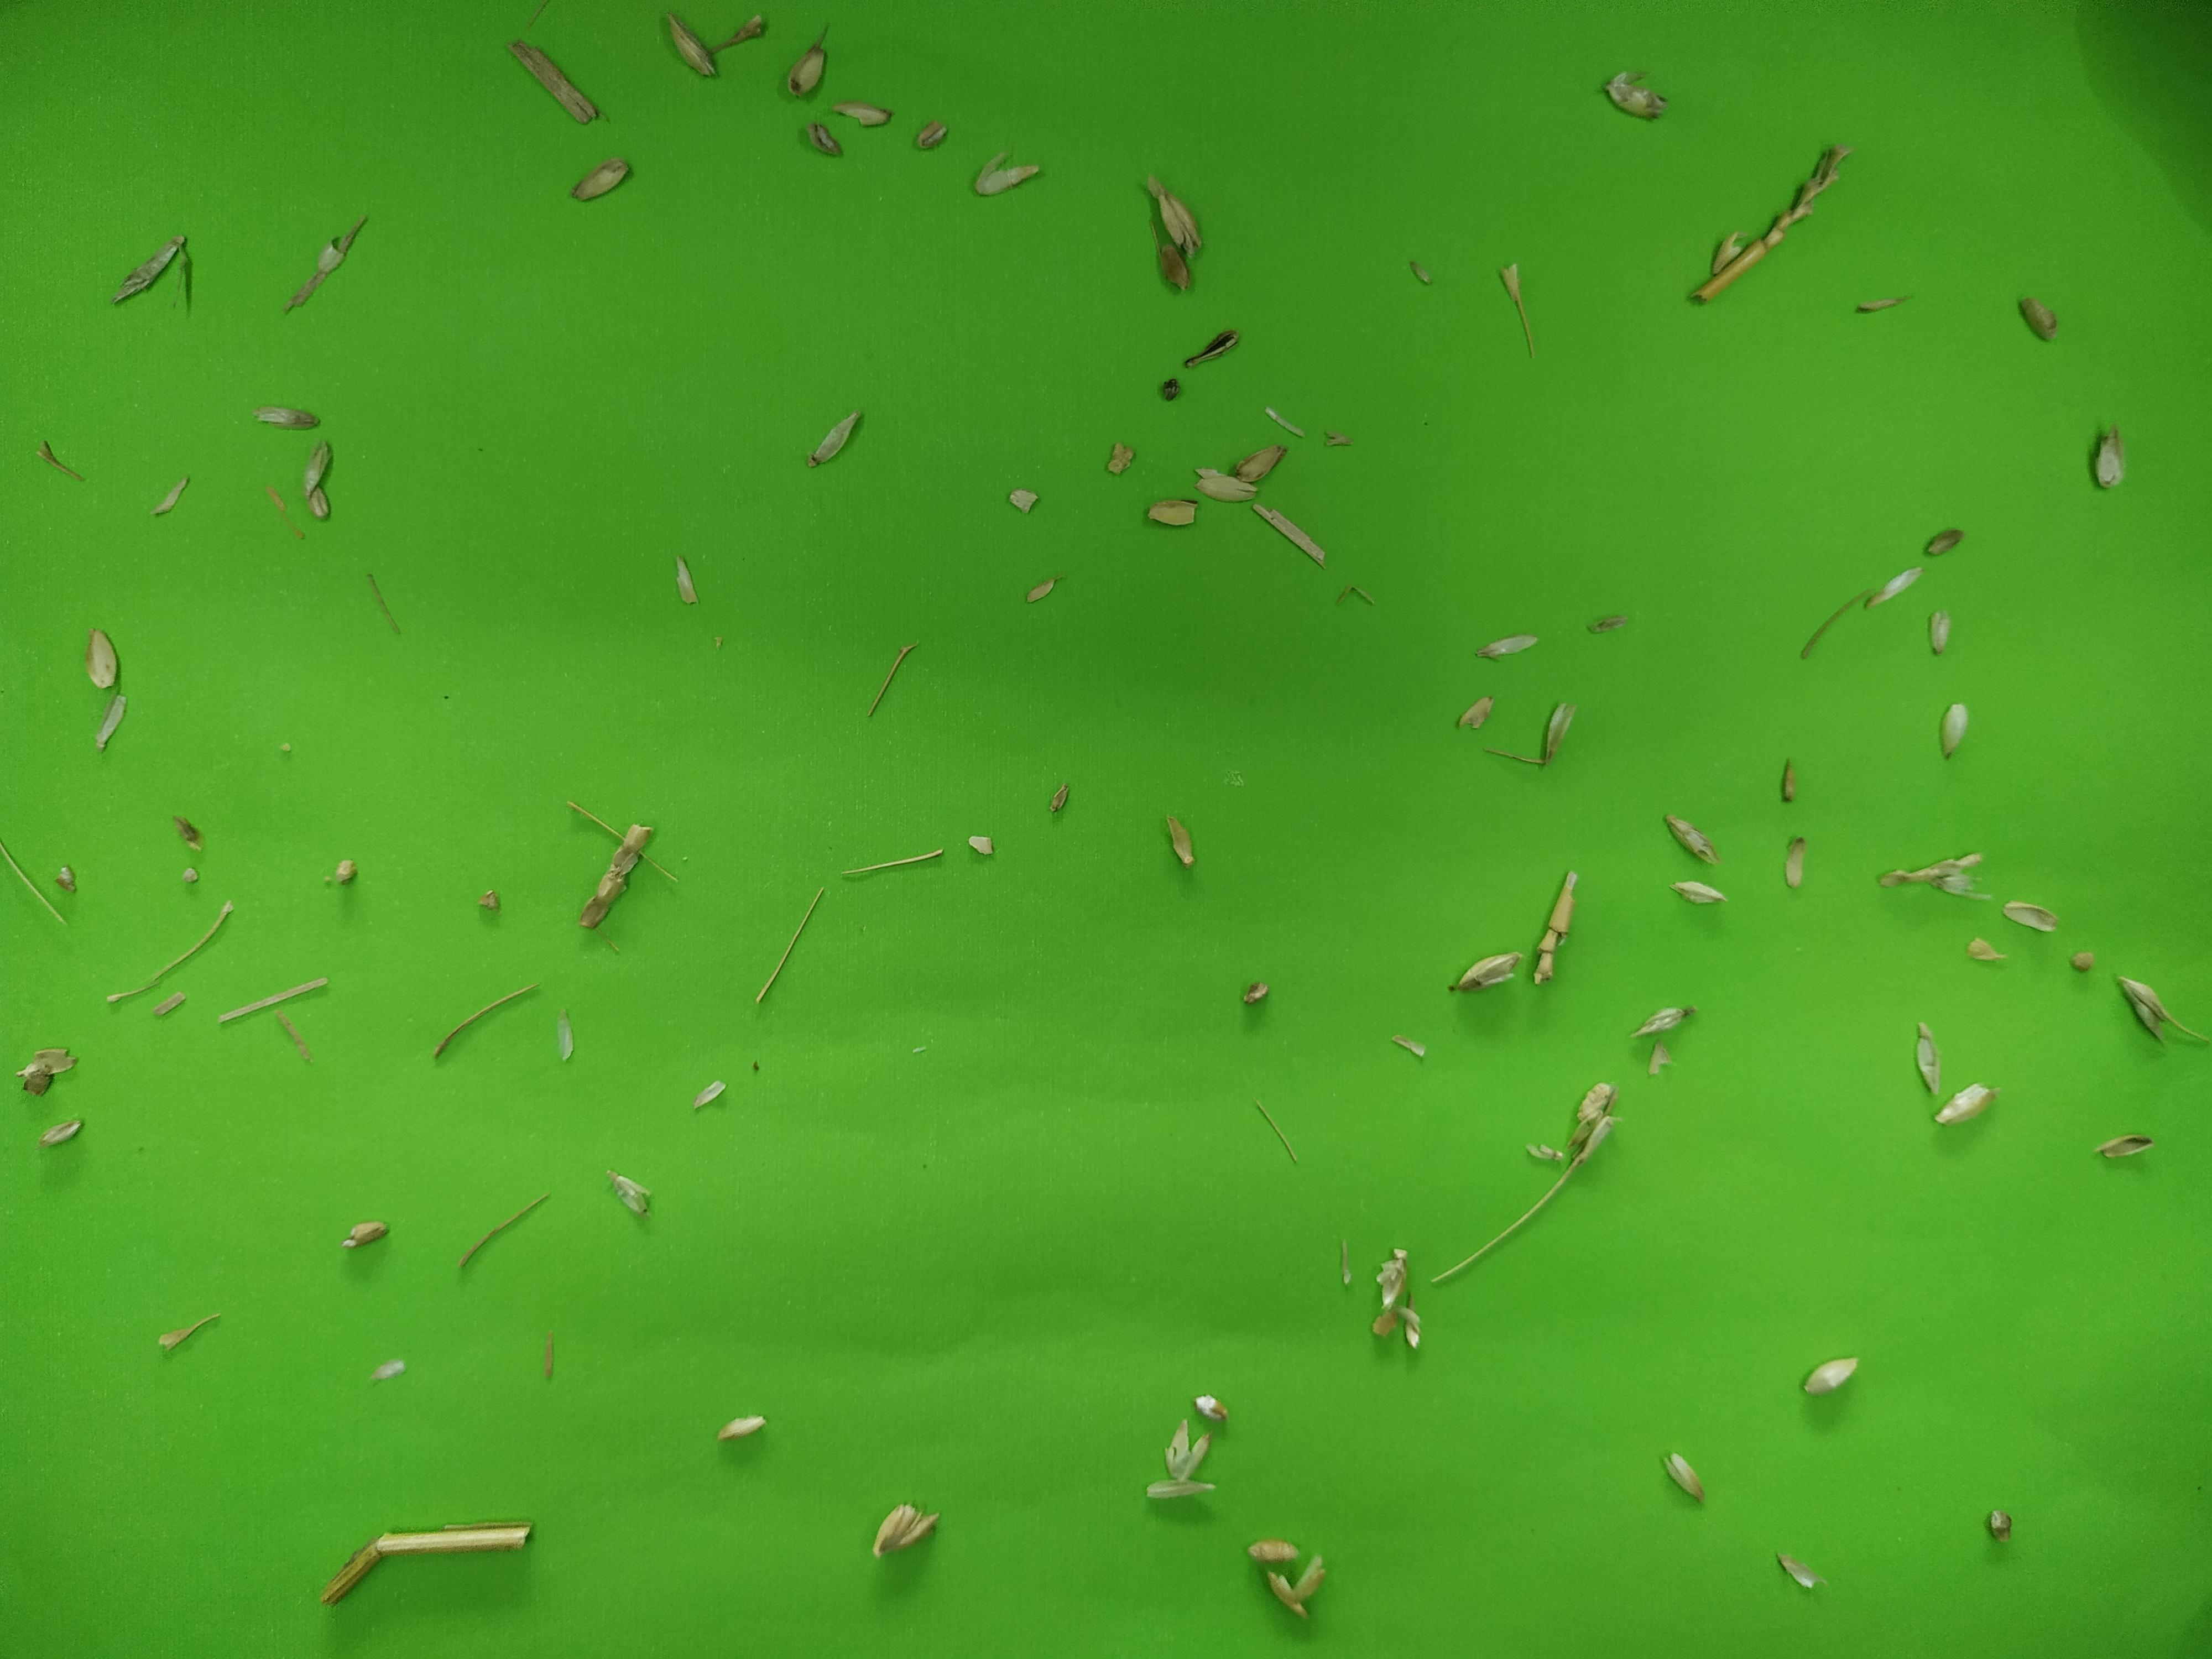impureza: (1688, 136, 1853, 307), (1435, 1140, 1590, 1277), (315, 1518, 533, 1610), (103, 899, 235, 1004), (561, 795, 676, 884), (495, 33, 603, 125), (580, 814, 658, 934), (430, 981, 543, 1060), (287, 209, 373, 312), (2113, 978, 2209, 1058), (761, 885, 822, 1011), (458, 1188, 550, 1267), (1871, 847, 1989, 906), (1527, 864, 1581, 993), (108, 232, 190, 314), (211, 978, 329, 1028), (1371, 1248, 1425, 1358), (864, 636, 923, 728), (1804, 582, 1872, 660), (1249, 502, 1325, 565), (782, 17, 843, 96), (867, 1495, 939, 1561), (974, 141, 1049, 200), (570, 152, 644, 207), (1568, 1075, 1623, 1148), (1162, 1412, 1216, 1486), (1500, 256, 1536, 364), (805, 404, 867, 467), (1247, 1096, 1303, 1166), (667, 12, 721, 84), (1599, 71, 1670, 125), (1141, 178, 1200, 242), (1533, 688, 1576, 775), (1930, 1079, 2008, 1126), (359, 566, 408, 641), (1451, 951, 1527, 999), (840, 849, 949, 880), (1907, 1018, 1947, 1101), (16, 1047, 80, 1098), (244, 397, 326, 436), (157, 1312, 221, 1359), (1655, 1448, 1707, 1506), (1869, 565, 1933, 610), (1660, 814, 1714, 868), (296, 444, 333, 523), (1191, 462, 1261, 502), (1259, 1570, 1312, 1622), (1803, 1349, 1865, 1392), (1139, 1474, 1216, 1509), (1632, 1002, 1696, 1042), (263, 477, 303, 540), (1468, 629, 1543, 662), (831, 92, 895, 131), (153, 467, 200, 519), (606, 1168, 653, 1220), (30, 437, 82, 484), (1237, 439, 1291, 484), (82, 620, 117, 690), (92, 690, 129, 755), (2090, 420, 2123, 490), (1935, 695, 1968, 763), (1188, 326, 1240, 368), (272, 1014, 314, 1066), (1773, 1553, 1825, 1593), (1157, 240, 1197, 293), (2017, 295, 2059, 343), (1670, 875, 1728, 910), (1242, 1534, 1298, 1568), (556, 1002, 589, 1060), (2099, 1129, 2158, 1161), (1144, 497, 1200, 530), (728, 9, 772, 51), (667, 554, 698, 610), (1925, 599, 1954, 655), (2005, 903, 2060, 932), (1163, 817, 1197, 866), (803, 122, 846, 159), (536, 1321, 563, 1382), (35, 1117, 85, 1148), (1261, 404, 1308, 437), (324, 850, 362, 890), (1456, 694, 1496, 732), (1474, 748, 1547, 769), (1958, 934, 2001, 969), (1188, 1391, 1231, 1425), (341, 1218, 392, 1248), (1782, 833, 1806, 894), (1021, 572, 1062, 606), (1923, 526, 1965, 561), (1641, 1039, 1676, 1080), (1857, 291, 1916, 315), (1103, 437, 1136, 481), (690, 1080, 735, 1112), (714, 1413, 765, 1441), (1237, 974, 1275, 1011), (1982, 1506, 2017, 1546), (1585, 608, 1630, 638), (1298, 1554, 1329, 1596), (150, 986, 186, 1019), (1043, 779, 1075, 817), (1390, 1030, 1428, 1060), (1000, 488, 1038, 518), (1522, 1138, 1568, 1162), (2066, 946, 2099, 979), (961, 830, 995, 863), (1773, 762, 1799, 803), (172, 816, 204, 850), (366, 1356, 406, 1382), (918, 118, 951, 150), (49, 861, 77, 896), (1407, 254, 1433, 291), (1320, 425, 1357, 451), (1334, 584, 1369, 610), (1158, 375, 1184, 404), (178, 864, 204, 889), (51, 1134, 54, 1148)
